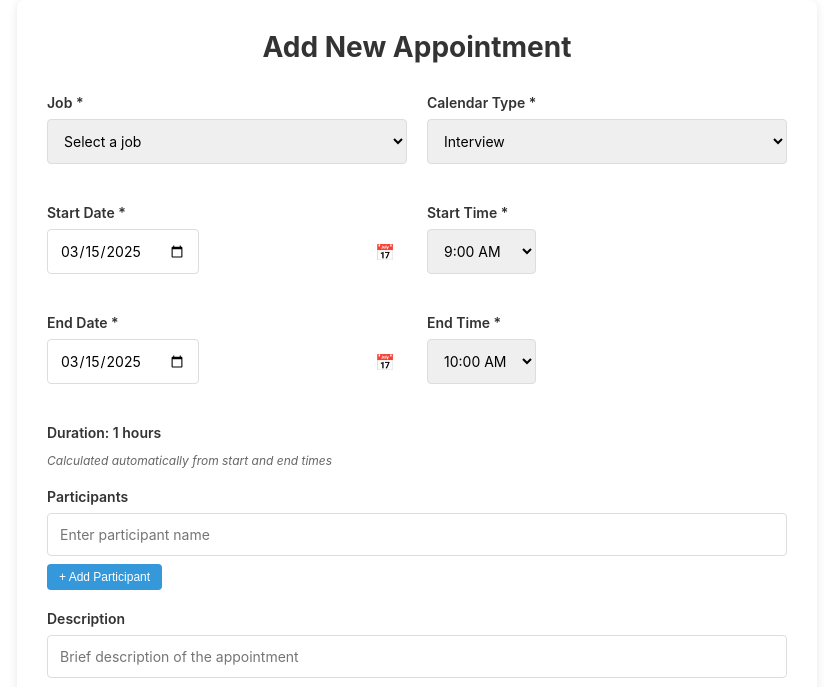
Scenario: CalendarForm Component › Form Interactions › adds participant field when button clicked
Click the button "+ Add Participant" at point(105, 577), box [47, 564, 162, 590]
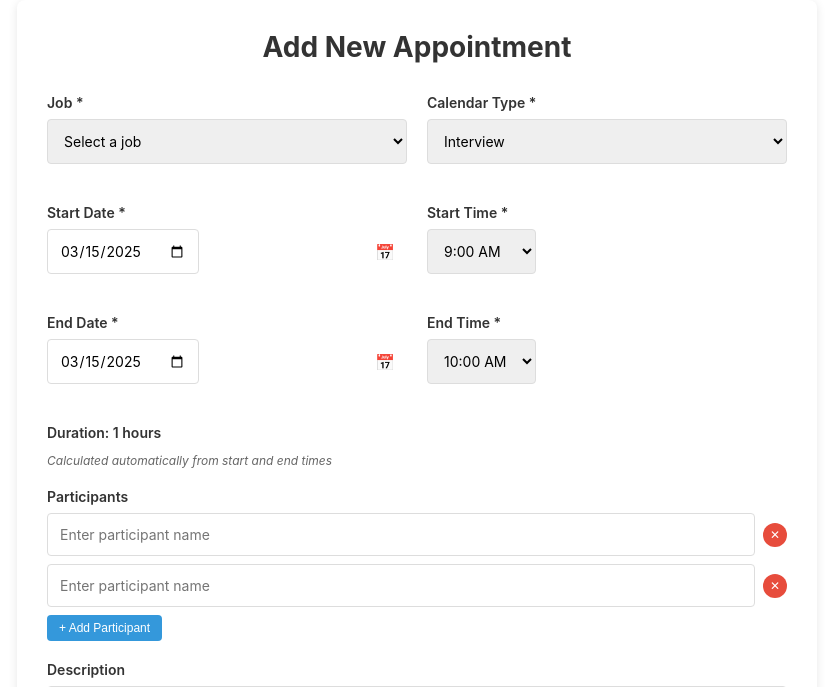
Check: the number of fields with placeholder "Enter participant name" is 2, box [47, 513, 755, 556]; [47, 564, 755, 607]
